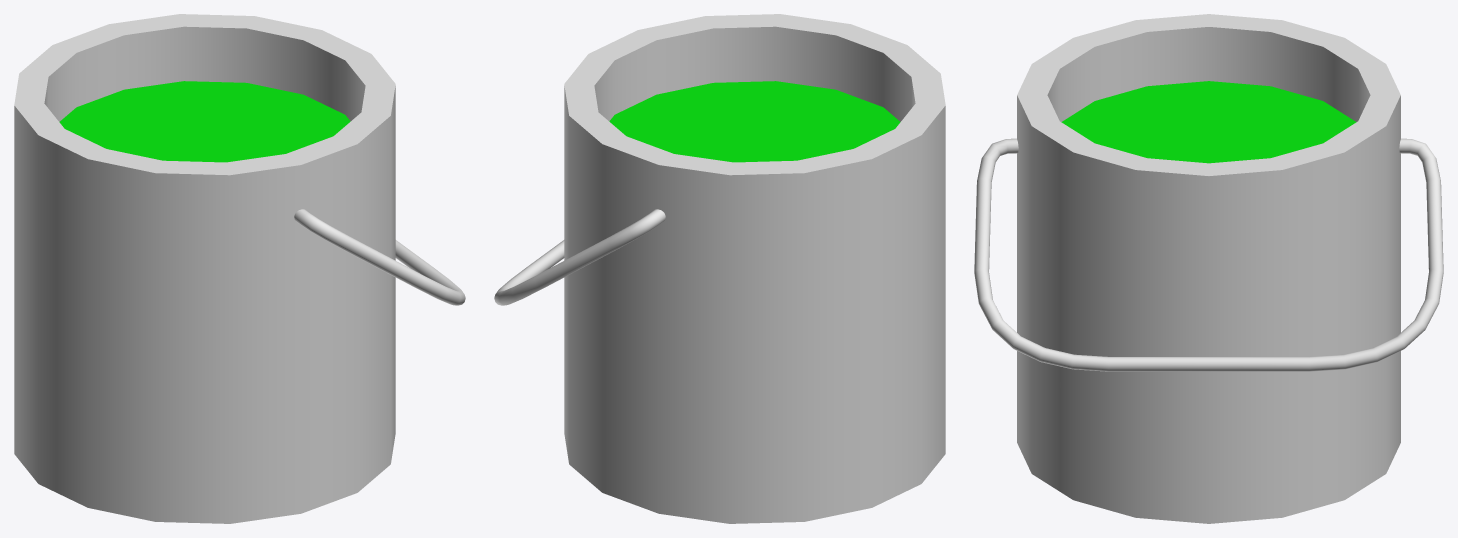
The model's file is lackierstation.fbx.
The picture shows the model from 3 angles, left to right: view 1: azimuth 30°, elevation 25°; view 2: azimuth 150°, elevation 25°; view 3: azimuth 270°, elevation 25°; orthographic projection.
Visible parts, largest first — view 1: Bucket_Empty, Bucket_Full, Halter; view 2: Bucket_Empty, Bucket_Full, Halter; view 3: Bucket_Empty, Bucket_Full, Halter.
Part boxes in pixels (x1,y1,x2,y2): Bucket_Empty: [14, 14, 395, 523]; Bucket_Full: [45, 27, 364, 162]; Halter: [294, 209, 465, 305]; Bucket_Empty: [564, 14, 945, 523]; Bucket_Full: [594, 27, 915, 162]; Halter: [494, 209, 665, 305]; Bucket_Empty: [1017, 14, 1400, 523]; Bucket_Full: [1047, 27, 1370, 163]; Halter: [974, 138, 1443, 371].
Bounding box in the file's own units: 91.58 × 87.85 × 107.
